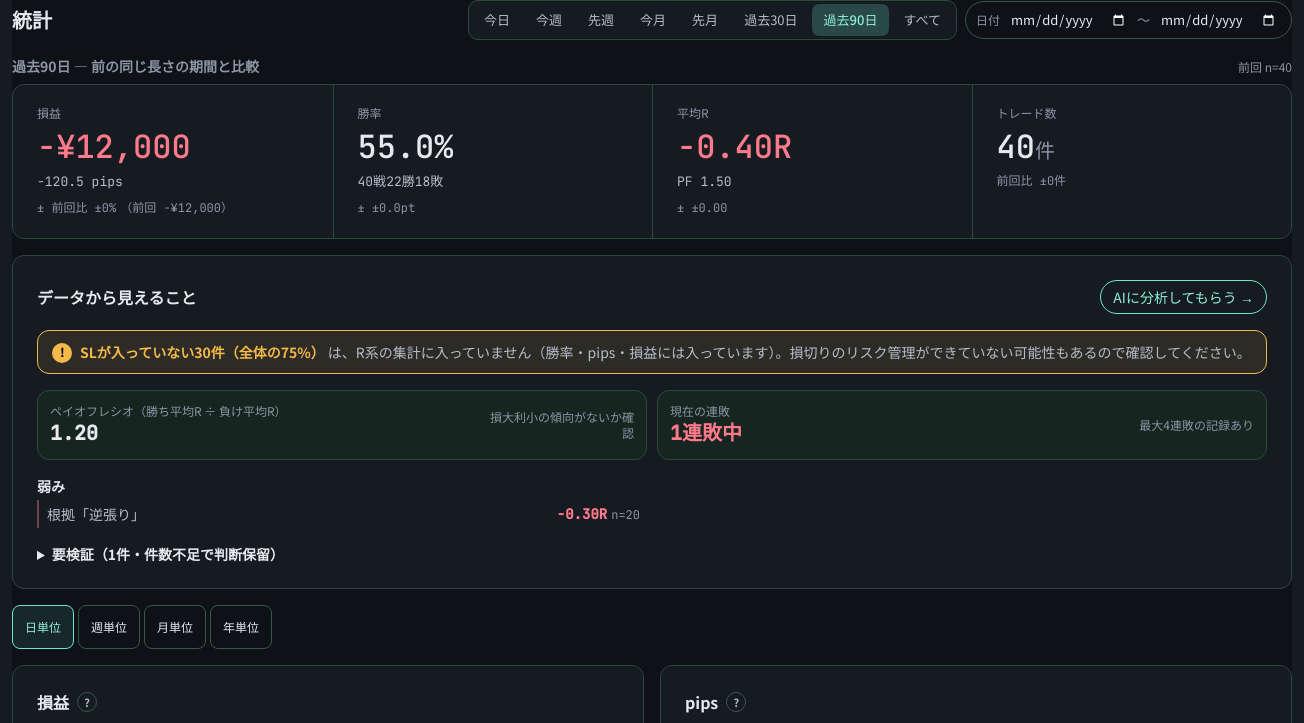
Test case: 統計 › 「すべて」は比較対象が無いが、その期間の集計は出す。プラス・マイナスは比較時と同じ色で示す
The width and height of the screenshot is (1304, 723).
Click the button "すべて". click: (922, 20)
box: [891, 4, 953, 36]
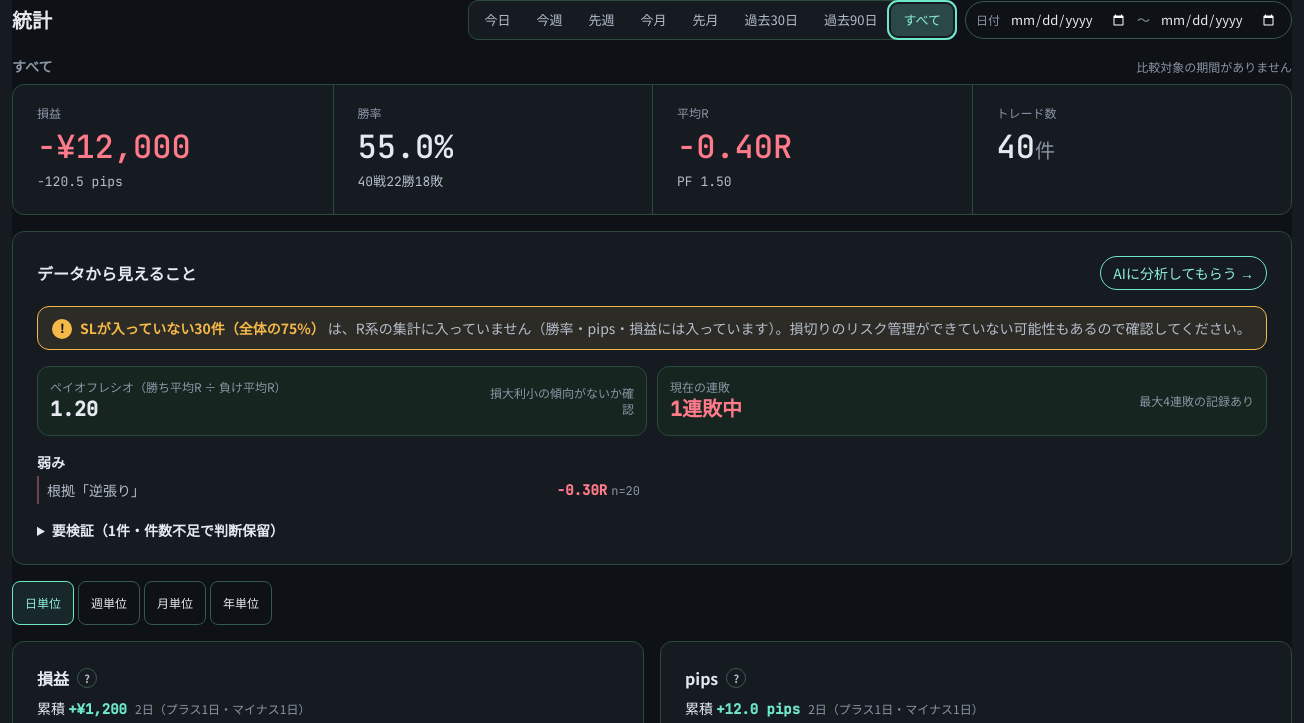
expect the heading "前の同じ長さの期間と比較" is gone: met
expect the text "比較対象の期間がありません" is shown: met, box [1136, 59, 1292, 75]
expect the text "前回比" is gone: met
